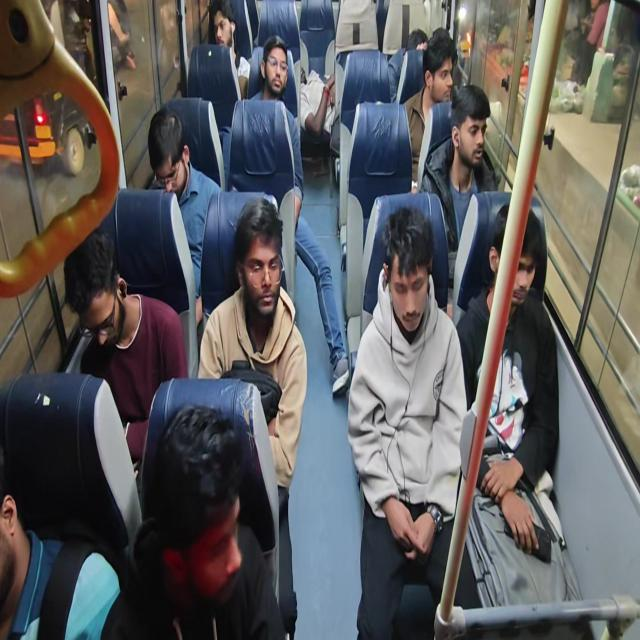person: (154, 392, 248, 640), (376, 208, 464, 406), (133, 102, 225, 259), (72, 252, 160, 400), (0, 416, 43, 640), (250, 212, 298, 371), (431, 81, 495, 178), (494, 214, 533, 324), (424, 31, 471, 119), (258, 32, 293, 116), (201, 0, 243, 62), (300, 56, 337, 126), (406, 22, 441, 83)
